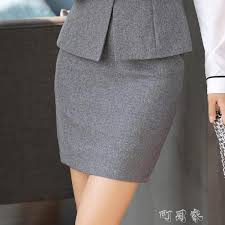F_tailored skirt: (50, 42, 187, 194)
